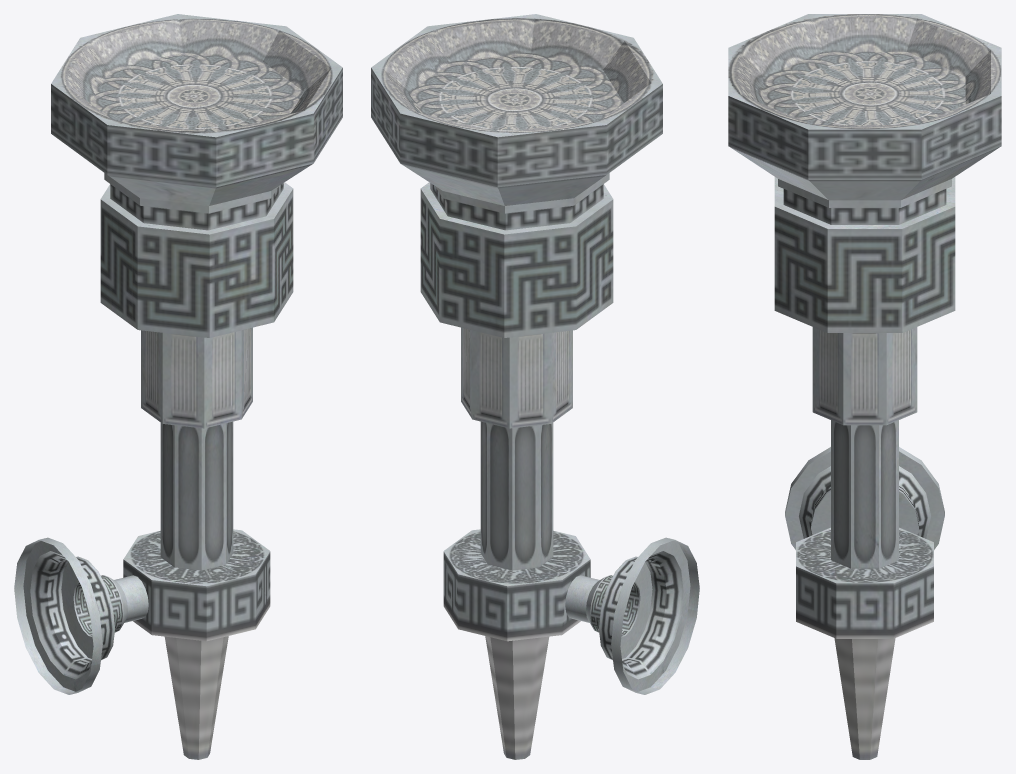
Rendered from OrbTorch.fbx.
The picture shows the model from 3 angles, left to right: view 1: azimuth 30°, elevation 25°; view 2: azimuth 150°, elevation 25°; view 3: azimuth 270°, elevation 25°; orthographic projection.
Visible parts, largest first — view 1: OrbTorch; view 2: OrbTorch; view 3: OrbTorch.
Part boxes in pixels (x1,y1,x2,y2): OrbTorch: (14,14,342,759); OrbTorch: (371,14,699,759); OrbTorch: (728,14,1001,759).
Bounding box in the file's own units: 1.47 × 3.65 × 1.32.
